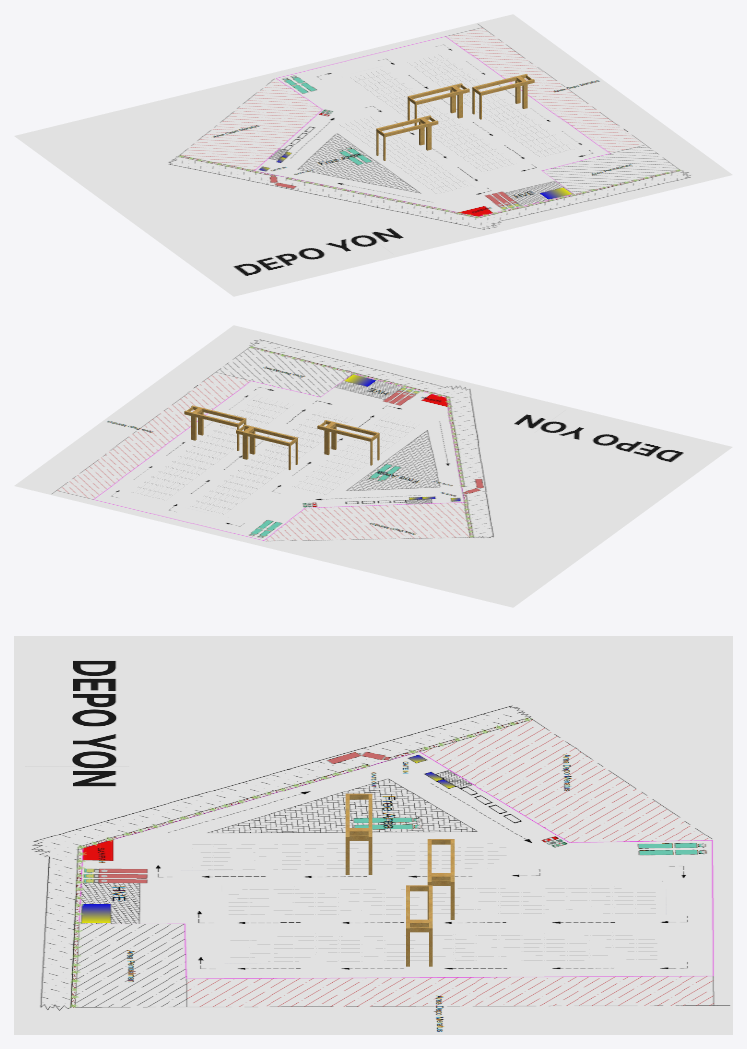
Rendered from new-depo-yon.glb.
3 renders of one model, top to bottom at view 1: azimuth 30°, elevation 25°; view 2: azimuth 150°, elevation 25°; view 3: azimuth 270°, elevation 25°, orthographic. The views are drawn at different scales.
Parts seen in each view (by area): view 1: Plane, RTG_C, RTG_A, RTG_B; view 2: Plane, RTG_B, RTG_A, RTG_C; view 3: Plane, RTG_A, RTG_C, RTG_B.
Boxes of the visible parts, <box> form: Plane: <box>14,14,732,296</box>; RTG_C: <box>472,74,534,119</box>; RTG_A: <box>376,115,438,160</box>; RTG_B: <box>407,83,469,125</box>; Plane: <box>14,325,732,607</box>; RTG_B: <box>236,424,297,469</box>; RTG_A: <box>317,420,379,465</box>; RTG_C: <box>184,405,246,450</box>; Plane: <box>14,636,732,1034</box>; RTG_A: <box>345,793,372,874</box>; RTG_C: <box>406,885,432,966</box>; RTG_B: <box>427,839,454,919</box>.
Bounding box in the file's own units: 353 × 18.03 × 269.
215 materials, 4 textured.
